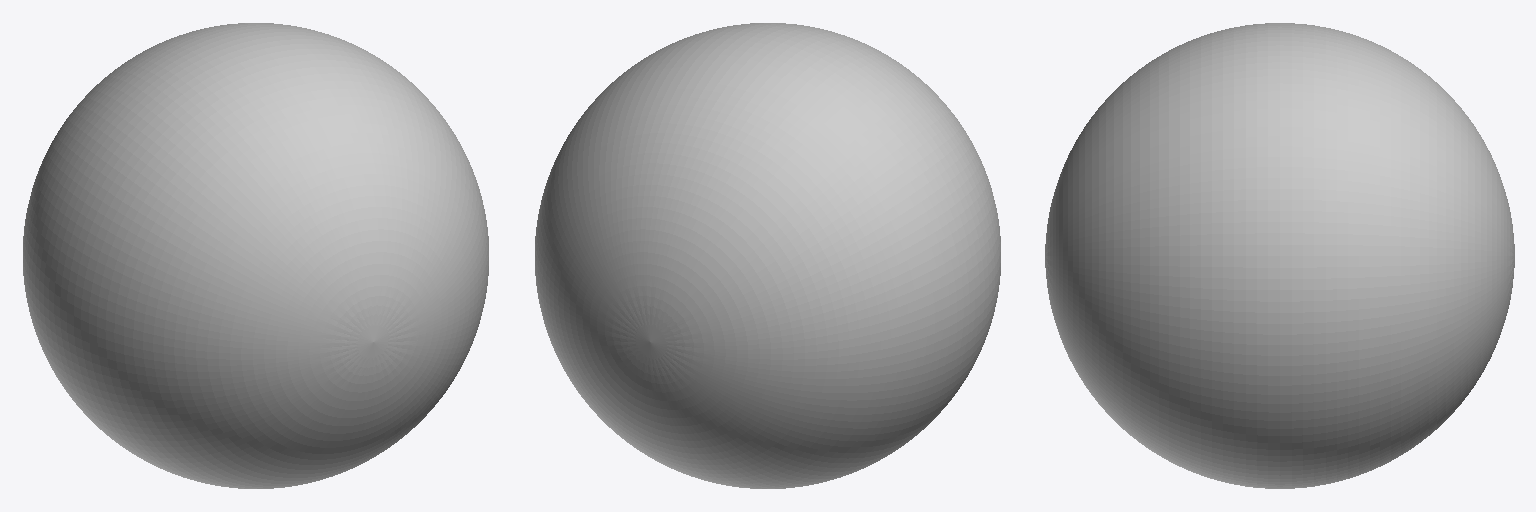
Rendered from sunTriangle.obj.
3 renders of one model, left to right at view 1: azimuth 30°, elevation 25°; view 2: azimuth 150°, elevation 25°; view 3: azimuth 270°, elevation 25°, orthographic.
Parts seen in each view (by area): view 1: sol; view 2: sol; view 3: sol.
Part boxes in pixels (x1,y1,x2,y2): sol: (23, 23, 488, 488); sol: (535, 23, 1000, 488); sol: (1045, 23, 1514, 488).
Bounding box in the file's own units: 970 × 970 × 980.